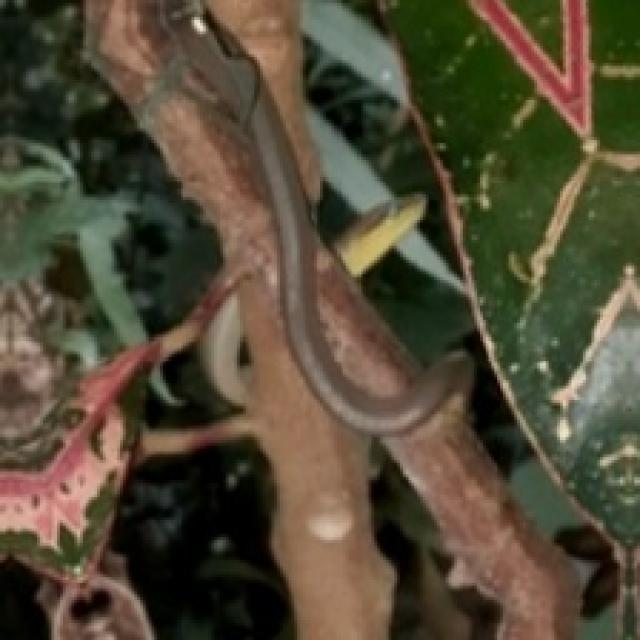red-tailed green ratsnake: (201, 32, 468, 434), (335, 196, 425, 277), (200, 294, 249, 406)
